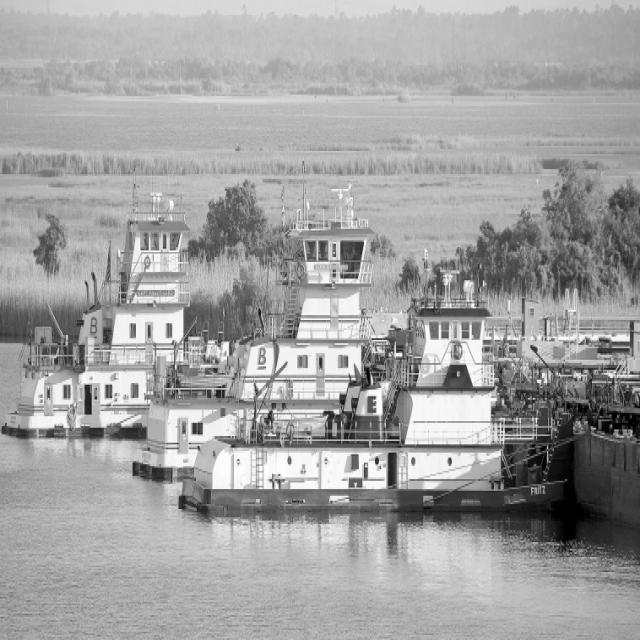tugboat: (176, 263, 580, 537)
